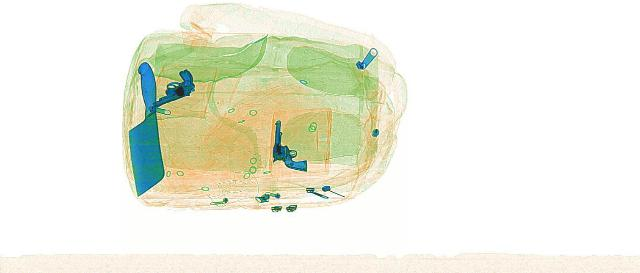Gun: (118, 68, 222, 106), (270, 119, 308, 170)
Knife: (124, 61, 164, 194)
